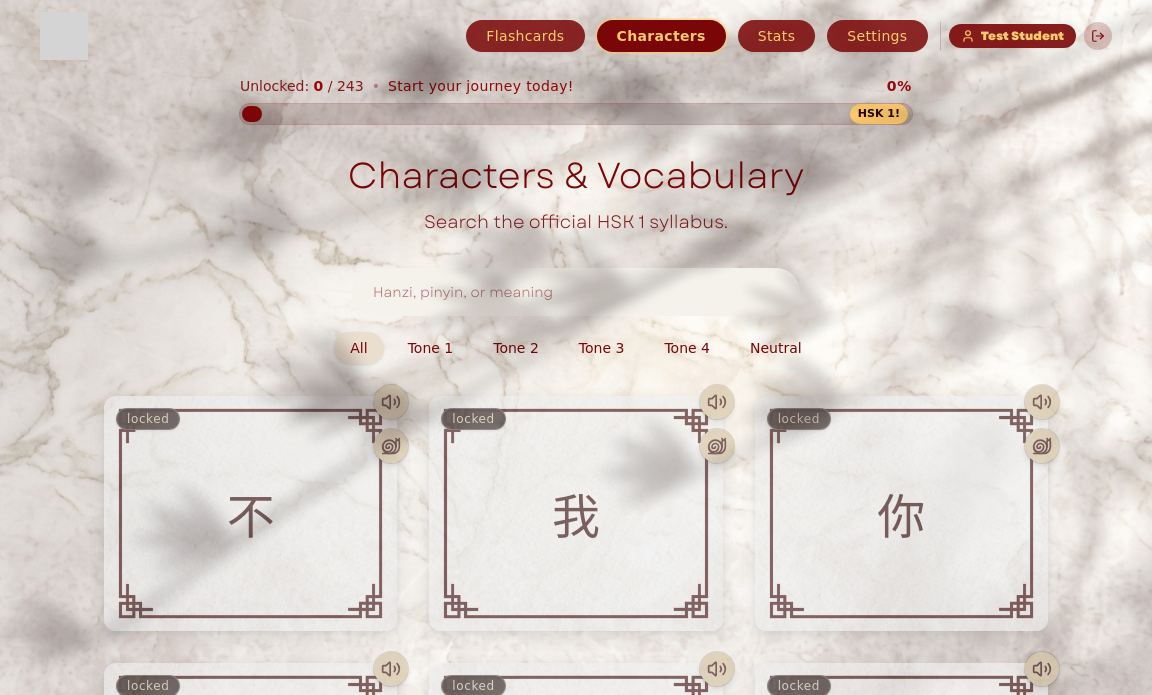
Test: Characters page › lists HSK characters and filters by search
The image size is (1152, 695).
Expected: the text "不" is shown, [227,489,275,537]
Type "hao" into the field named "Search characters". click: (576, 292)
box: [352,268,800,316]
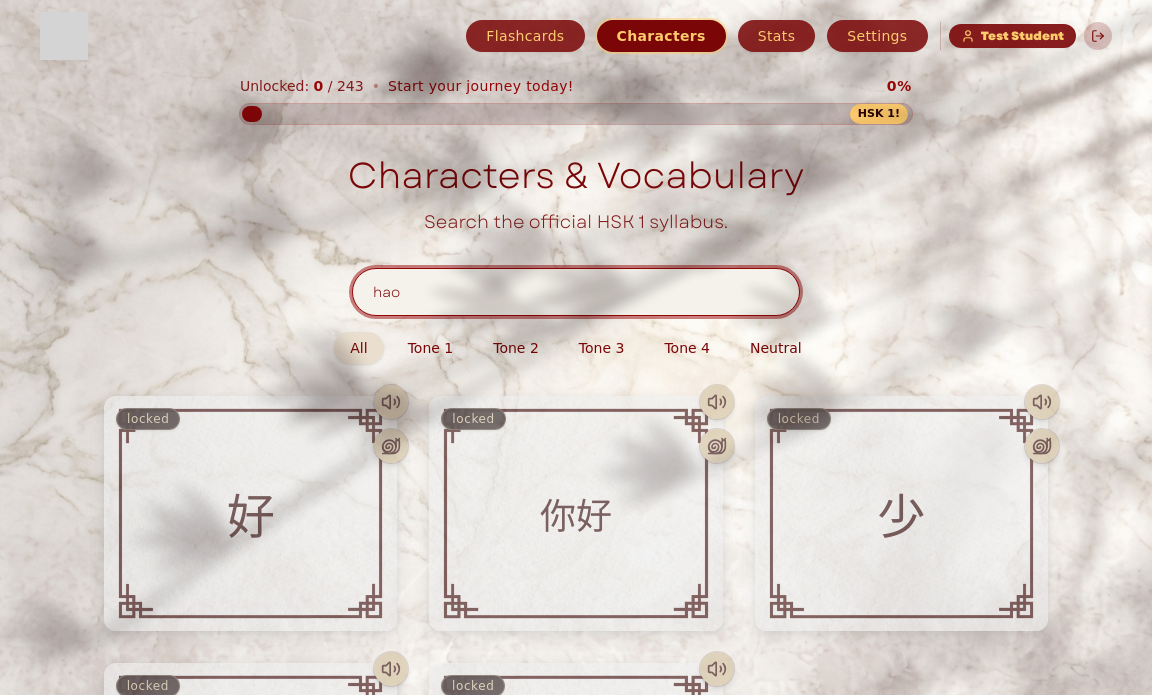
Expected: the text "好" is shown, [227,489,275,537]
Expected: the button "不" is gone
